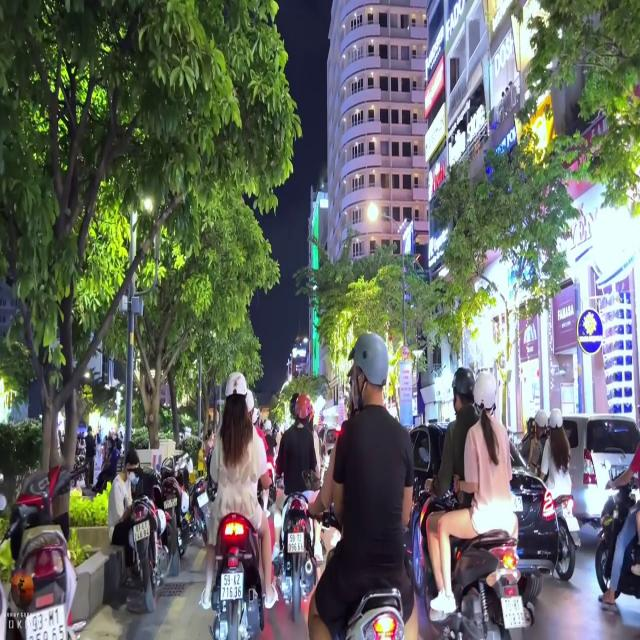bien_trang: (30, 598, 76, 640), (216, 568, 248, 605), (284, 528, 306, 555), (130, 521, 156, 540)
